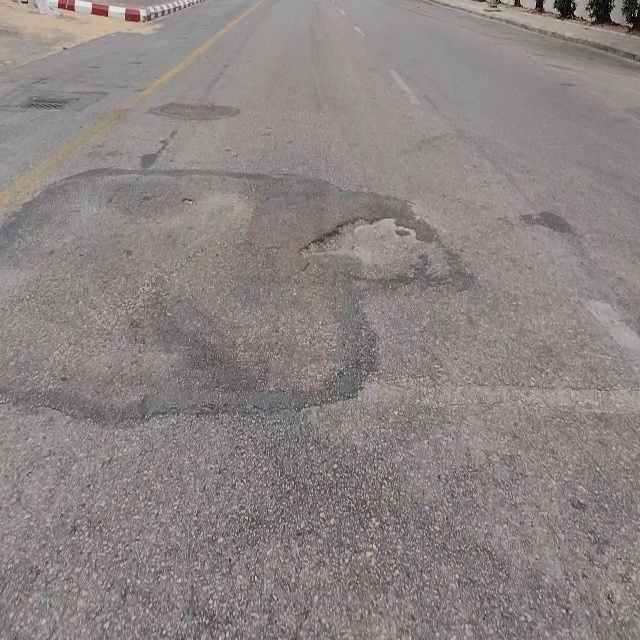pothole: (303, 214, 432, 274)
